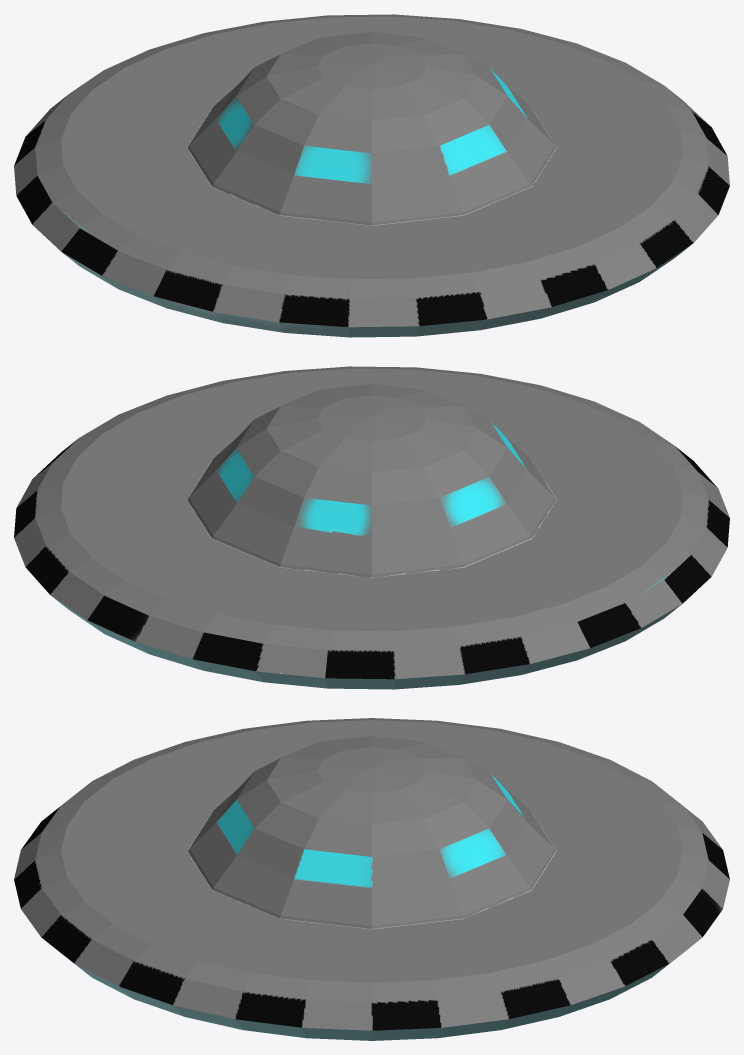
File: OvniModel.fbx
The picture shows the model from 3 angles, top to bottom: view 1: azimuth 30°, elevation 25°; view 2: azimuth 150°, elevation 25°; view 3: azimuth 270°, elevation 25°; orthographic projection.
Parts seen in each view (by area): view 1: Sphere.001; view 2: Sphere.001; view 3: Sphere.001.
Boxes of the visible parts, x1,y1,x2,y2 form: Sphere.001: (14,14,729,337); Sphere.001: (14,366,729,689); Sphere.001: (14,718,729,1040).
Size of the model in its own units: 339 by 107 by 339.
Materials: 1 (1 with a texture image).
